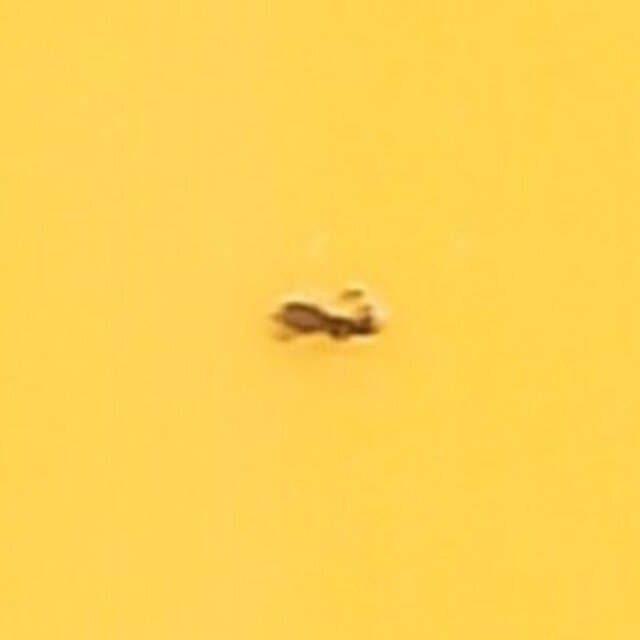Hemiptera: (245, 281, 395, 359)
